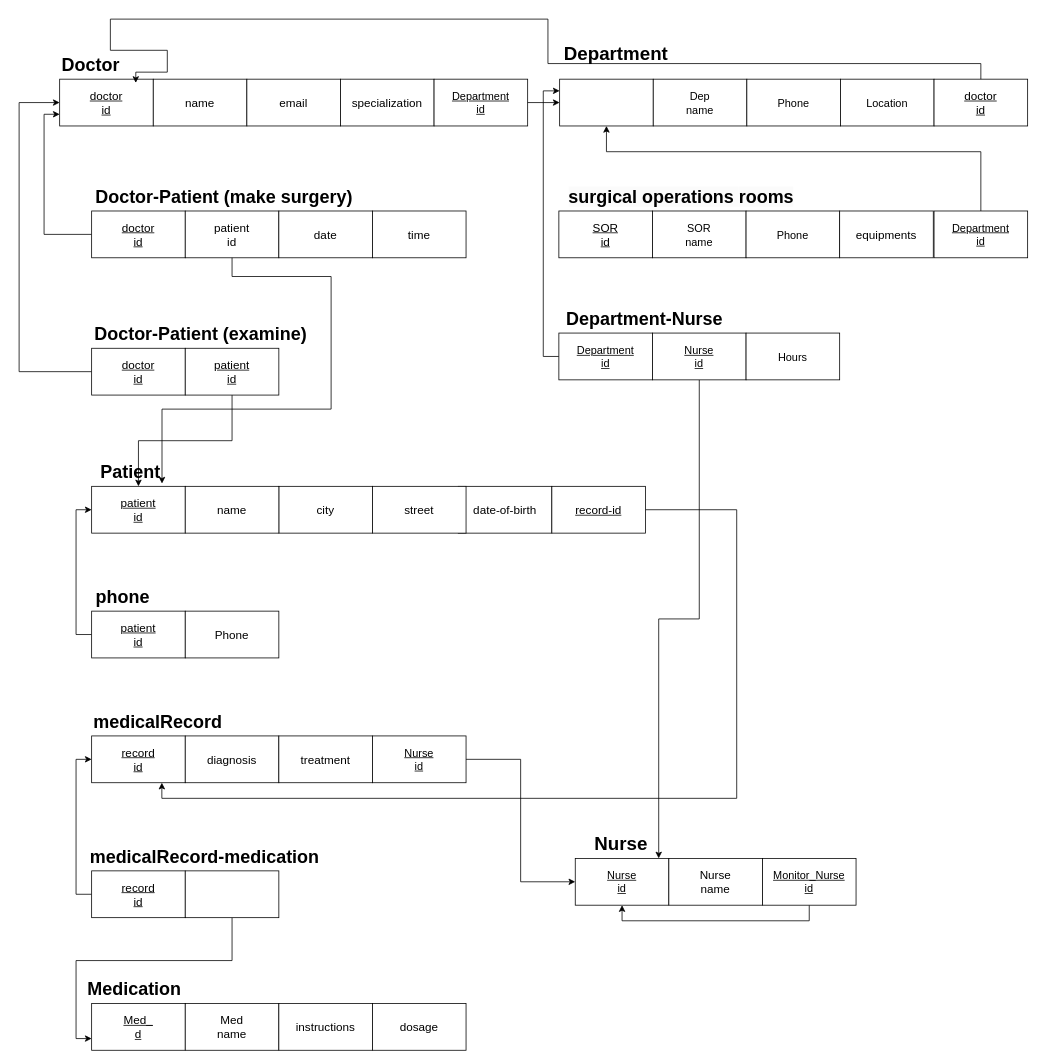
The diagram is 1041 pixels wide and 1064 high, and some of its shapes have lost their labels. Here are the shapes that lost their labels. From the top down, the centre of each, then its label:
At point (606, 102): "Dep id".
At point (231, 894): "medication id".
